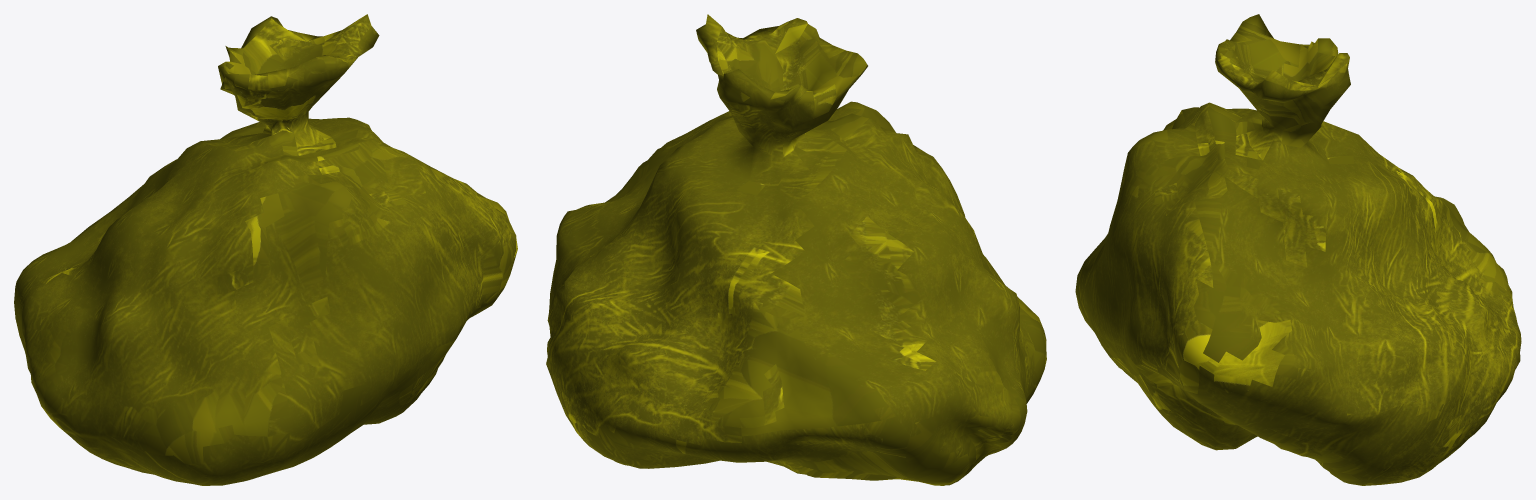
The model's file is Trash_bag_02.fbx.
The picture shows the model from 3 angles, left to right: view 1: azimuth 30°, elevation 25°; view 2: azimuth 150°, elevation 25°; view 3: azimuth 270°, elevation 25°; orthographic projection.
Visible parts, largest first — view 1: trahs_bag_02; view 2: trahs_bag_02; view 3: trahs_bag_02.
Boxes of the visible parts, <box> form: trahs_bag_02: <box>14,14,517,485</box>; trahs_bag_02: <box>546,14,1046,485</box>; trahs_bag_02: <box>1075,14,1521,485</box>.
Bounding box in the file's own units: 132 × 110 × 110.
